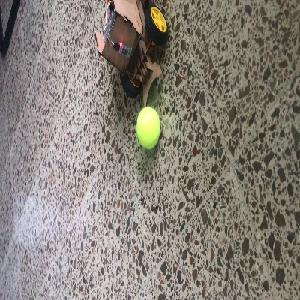Ball: (136, 104, 161, 148)
Robot: (94, 2, 169, 107)
